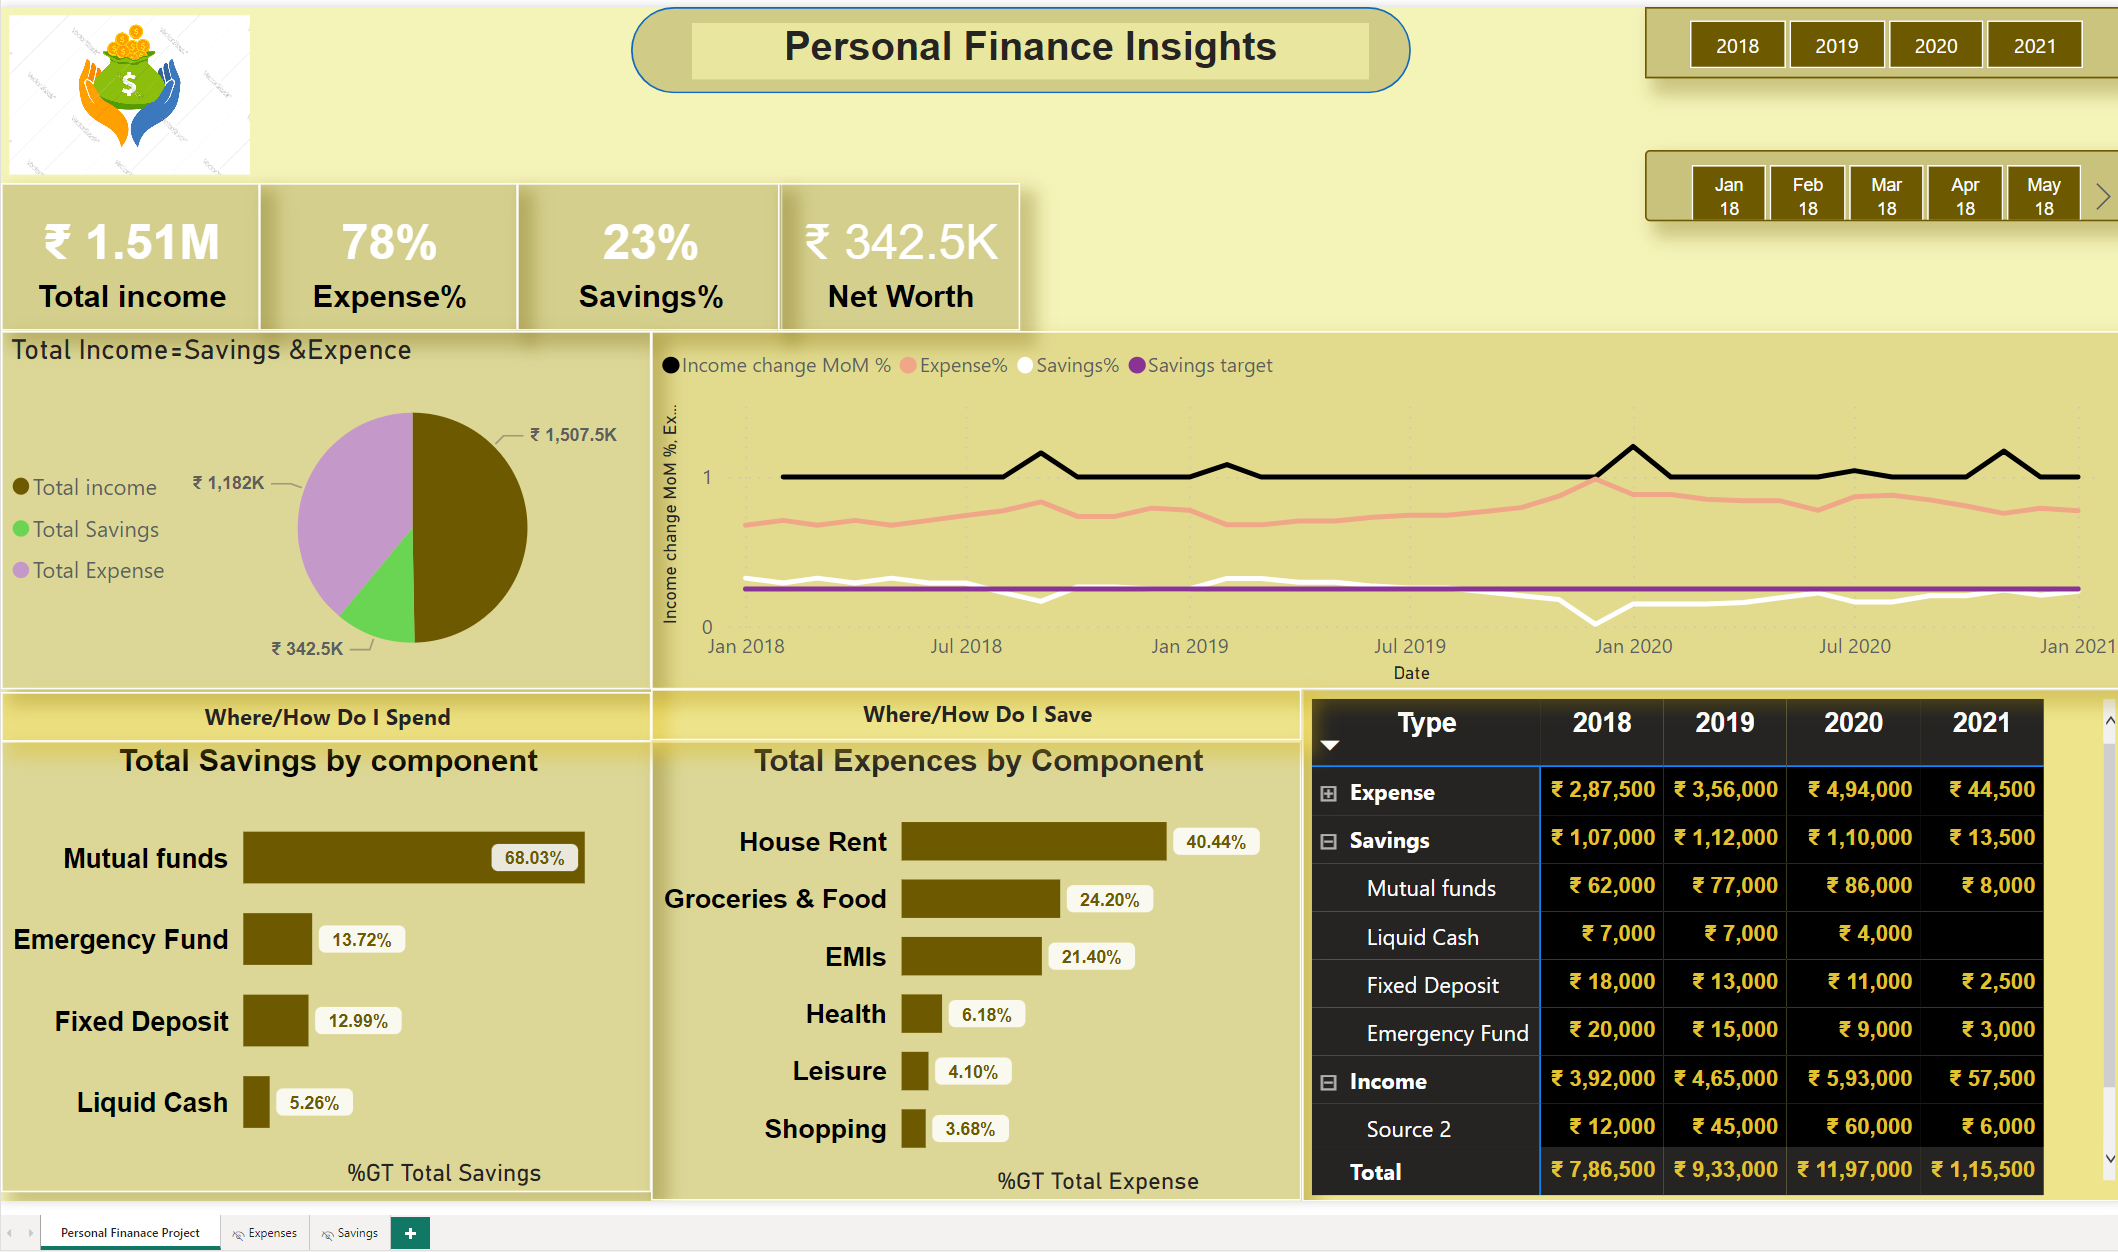

This screenshot's page, from the dashboard's own definition file:
{"tool":"powerbi","page":{"name":"Personal Finanace Project","canvas":[1280,720],"ordinal":0},"visuals":[{"type":"shape","box":[379.6,0,469.9,51.7],"z":0},{"type":"textbox","title":"Personal Finance Insights","box":[416.2,9.8,408.3,34],"z":1000},{"type":"slicer","fields":{"Values":["FinData.Year"]},"box":[990.8,0,289.2,43.2],"z":2000},{"type":"slicer","fields":{"Values":["FinData.Date"]},"box":[990.8,86.4,289.2,43.2],"z":3000},{"type":"card","fields":{"Values":["Key measures.Total income"]},"box":[0,106,155.7,89],"z":4000},{"type":"card","fields":{"Values":["Key measures.Expense%"]},"box":[155.7,106,155.7,89],"z":5000},{"type":"card","fields":{"Values":["Key measures.Savings%"]},"box":[311,106.1,160.3,89.2],"z":6000},{"type":"card","fields":{"Values":["Key measures.Total Savings"]},"box":[468.2,106.1,146.4,89.2],"z":7000},{"type":"pieChart","title":"Total Income=Savings &Expence","fields":{"Y":["Key measures.Total income","Key measures.Total Savings","Key measures.Total Expense"]},"box":[0,195.3,391.7,215.7],"z":8000},{"type":"barChart","title":"Total Savings by component","fields":{"Category":["FinData.Component"],"Y":["Key measures.Total Savings"]},"box":[0,442.4,392,272.2],"z":9000},{"type":"barChart","title":"Total Expences by Component","fields":{"Category":["FinData.Component"],"Y":["Key measures.Total Expense"]},"box":[392,442.4,392,277.5],"z":10000},{"type":"pivotTable","fields":{"Rows":["Type.Type","FinData.Component"],"Values":["Key measures.values"],"Columns":["FinData.Year","FinData.Date.Variation.Date Hierarchy.Month"]},"box":[784,411,496,308.5],"z":11000},{"type":"lineChart","fields":{"Y":["Key measures.Income change MoM %","Key measures.Expense%","Key measures.Savings%","Key measures.Savings target"],"Category":["FinData.Date"]},"box":[391.7,195.3,888.3,215.7],"z":12000},{"type":"image","box":[0,0,155.5,106.1],"z":13000},{"type":"textbox","box":[0,412.8,391.7,29.5],"z":14000},{"type":"textbox","box":[391.7,411,391.7,31.3],"z":14001}]}

Visuals, with their boxes on the page's 1280x720 design canvas (x1, y1, x2, y2). These are canvas units, not pixel positions in the 2118x1252 screenshot, which may show the page scaled, cropped or inside an application window:
shape: crop(380, 0, 850, 52)
"Personal Finance Insights" textbox: crop(416, 10, 824, 44)
slicer - FinData.Year: crop(991, 0, 1280, 43)
slicer - FinData.Date: crop(991, 86, 1280, 130)
card - Key measures.Total income: crop(0, 106, 156, 195)
card - Key measures.Expense%: crop(156, 106, 311, 195)
card - Key measures.Savings%: crop(311, 106, 471, 195)
card - Key measures.Total Savings: crop(468, 106, 615, 195)
"Total Income=Savings &Expence" pieChart: crop(0, 195, 392, 411)
"Total Savings by component" barChart: crop(0, 442, 392, 715)
"Total Expences by Component" barChart: crop(392, 442, 784, 720)
pivotTable - Type.Type x FinData.Component: crop(784, 411, 1280, 720)
lineChart - Key measures.Income change MoM % x Key measures.Expense%: crop(392, 195, 1280, 411)
image: crop(0, 0, 156, 106)
textbox: crop(0, 413, 392, 442)
textbox: crop(392, 411, 783, 442)
